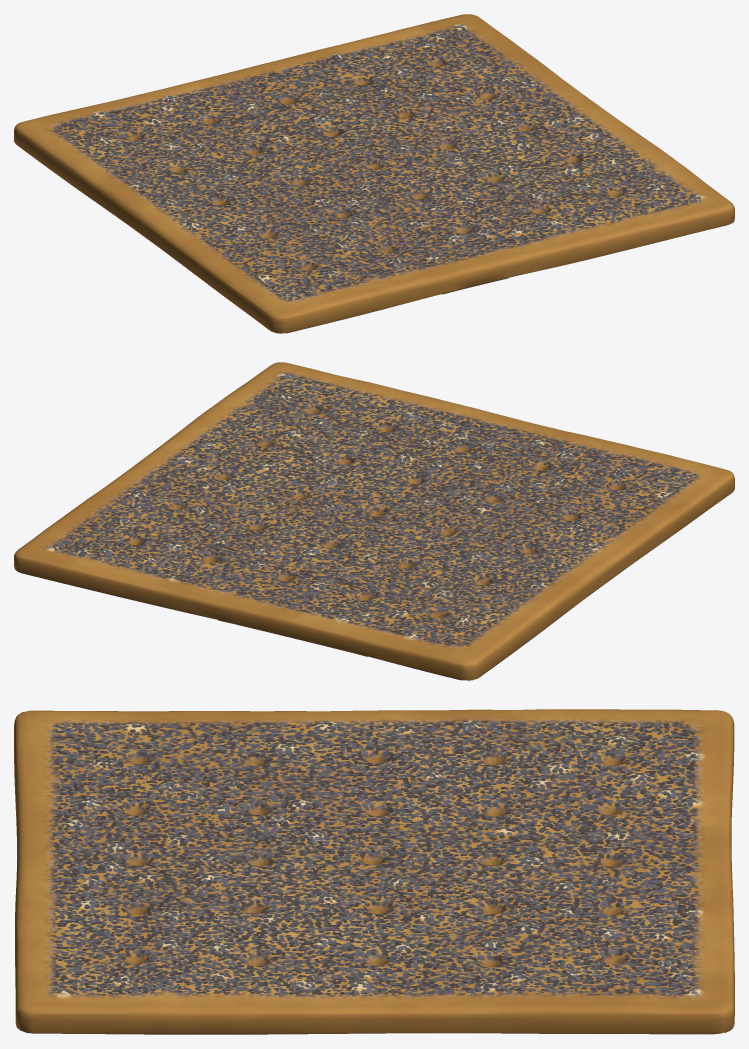
Rendered from cracker--poppyseed-seed.glb.
3 views of the same model, one above another, from view 1: azimuth 30°, elevation 25°; view 2: azimuth 150°, elevation 25°; view 3: azimuth 270°, elevation 25° (orthographic). The views are drawn at different scales.
Visible parts, largest first — view 1: cracker_poppyseed-seed; view 2: cracker_poppyseed-seed; view 3: cracker_poppyseed-seed.
Boxes of the visible parts, x1,y1,x2,y2 form: cracker_poppyseed-seed: (14, 14, 734, 333); cracker_poppyseed-seed: (14, 362, 734, 680); cracker_poppyseed-seed: (14, 709, 734, 1034).
Bounding box in the file's own units: 1.01 × 0.0436 × 1.
Materials: 1 (1 with a texture image).
